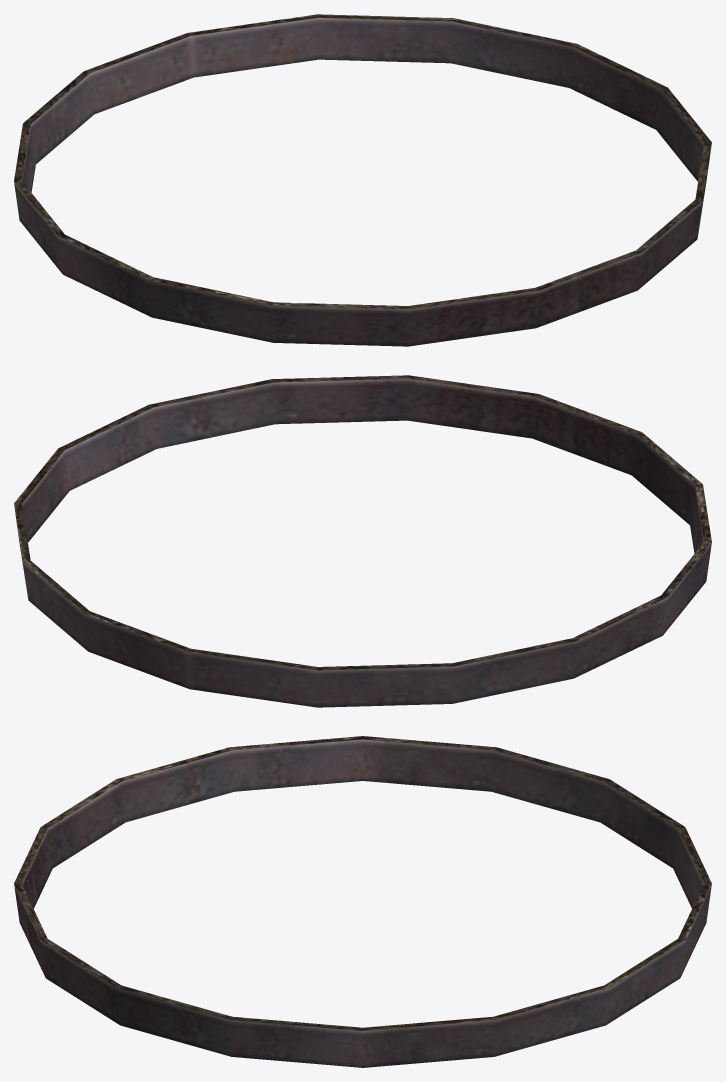
Rendered from flower_barrel_dead_p1.glb.
The picture shows the model from 3 angles, top to bottom: view 1: azimuth 30°, elevation 25°; view 2: azimuth 150°, elevation 25°; view 3: azimuth 270°, elevation 25°; orthographic projection.
Parts seen in each view (by area): view 1: flower_barrel_dead_p1; view 2: flower_barrel_dead_p1; view 3: flower_barrel_dead_p1.
Part boxes in pixels (left/top/right/bottom): flower_barrel_dead_p1: left=14, top=14, right=711, bottom=346; flower_barrel_dead_p1: left=14, top=375, right=711, bottom=707; flower_barrel_dead_p1: left=14, top=736, right=711, bottom=1067.
Bounding box in the file's own units: 0.7319 × 0.0455 × 0.7319.
1 material, 1 textured.
